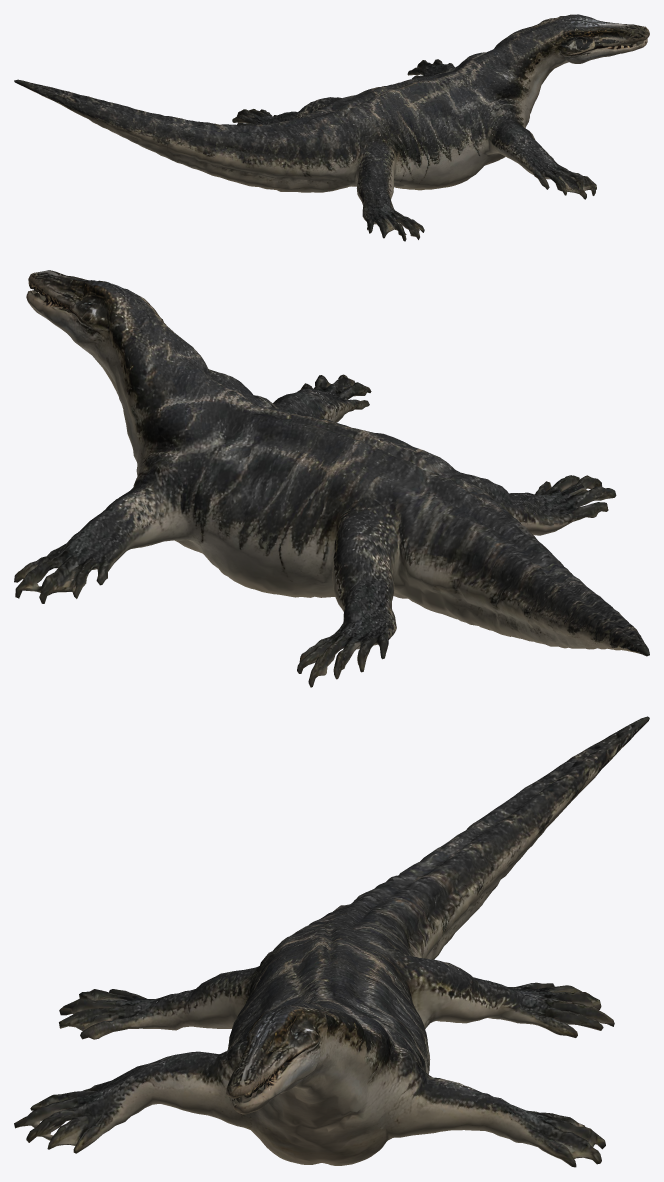
Rendered from nothosaurus.raw.glb.
3 views of the same model, one above another, from view 1: azimuth 30°, elevation 25°; view 2: azimuth 150°, elevation 25°; view 3: azimuth 270°, elevation 25° (orthographic). The views are drawn at different scales.
Parts seen in each view (by area): view 1: tripo_node_ea4528e3-1f9a-42f4-b0c4-2b84b879ff7c; view 2: tripo_node_ea4528e3-1f9a-42f4-b0c4-2b84b879ff7c; view 3: tripo_node_ea4528e3-1f9a-42f4-b0c4-2b84b879ff7c.
Boxes of the visible parts, bbox=[...] form: tripo_node_ea4528e3-1f9a-42f4-b0c4-2b84b879ff7c: bbox=[14, 14, 649, 241]; tripo_node_ea4528e3-1f9a-42f4-b0c4-2b84b879ff7c: bbox=[14, 270, 649, 687]; tripo_node_ea4528e3-1f9a-42f4-b0c4-2b84b879ff7c: bbox=[14, 716, 649, 1167].
Bounding box in the file's own units: 1 × 0.2637 × 0.6638.
Materials: 1 (1 with a texture image).
